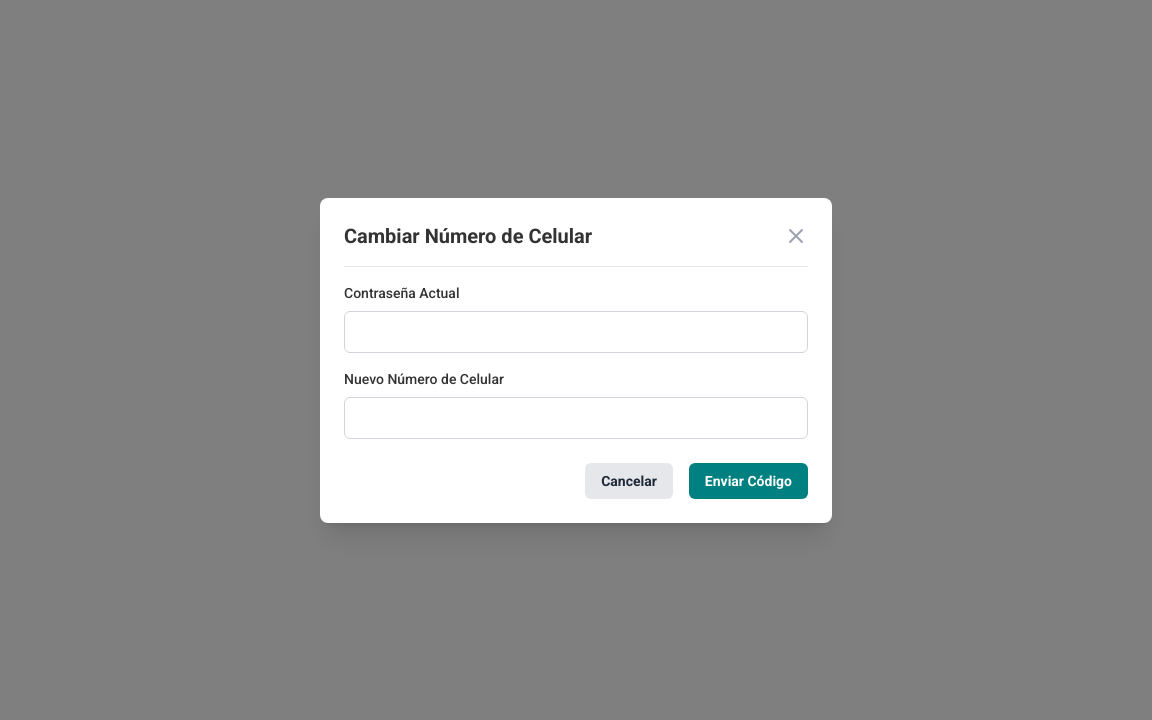
Scenario: ChangeCelularModal › debería mostrar un error si la confirmación falla
Type "password123" into the password field labelled "Contraseña Actual" at point(576, 332), box [344, 310, 808, 352]
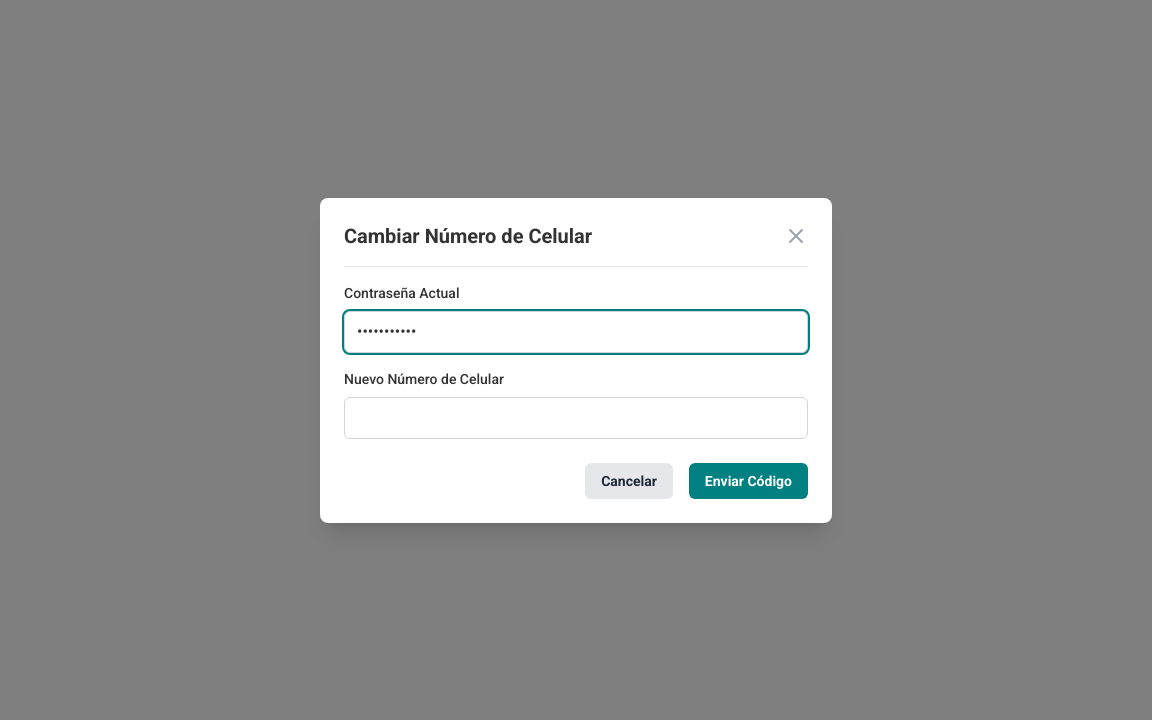
Type "3009876543" into the field labelled "Nuevo Número de Celular" at point(576, 418), box [344, 396, 808, 438]
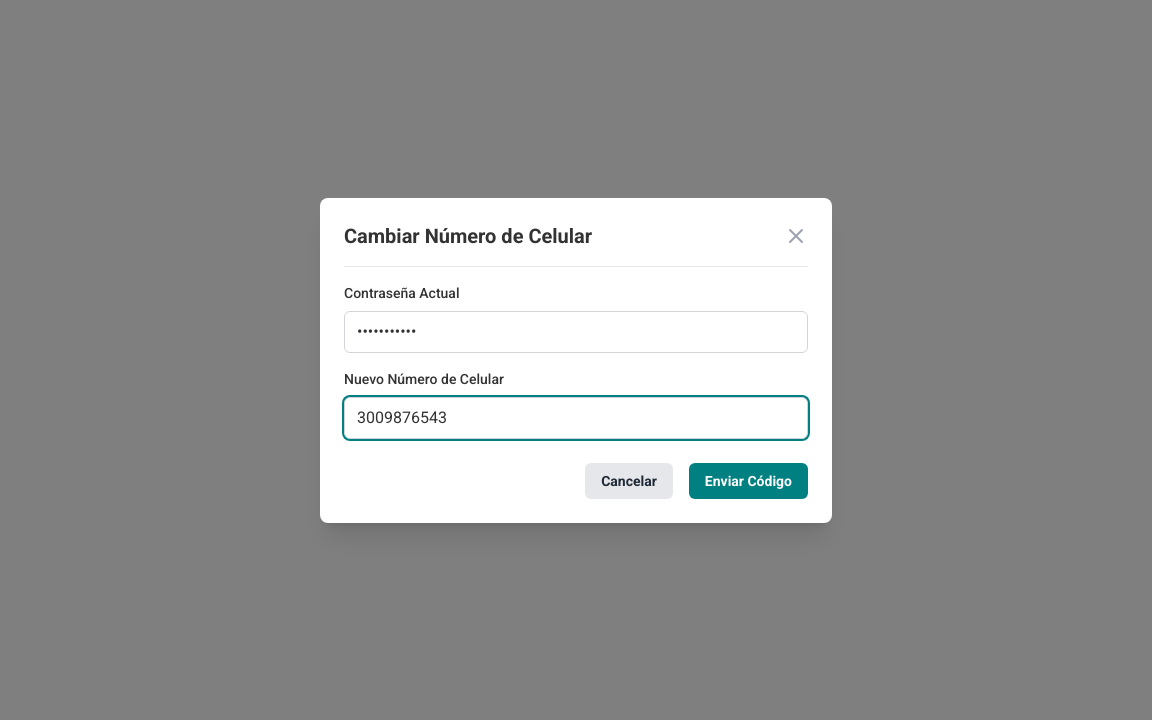
Click the button "Enviar Código" at point(748, 480), box [689, 462, 808, 498]
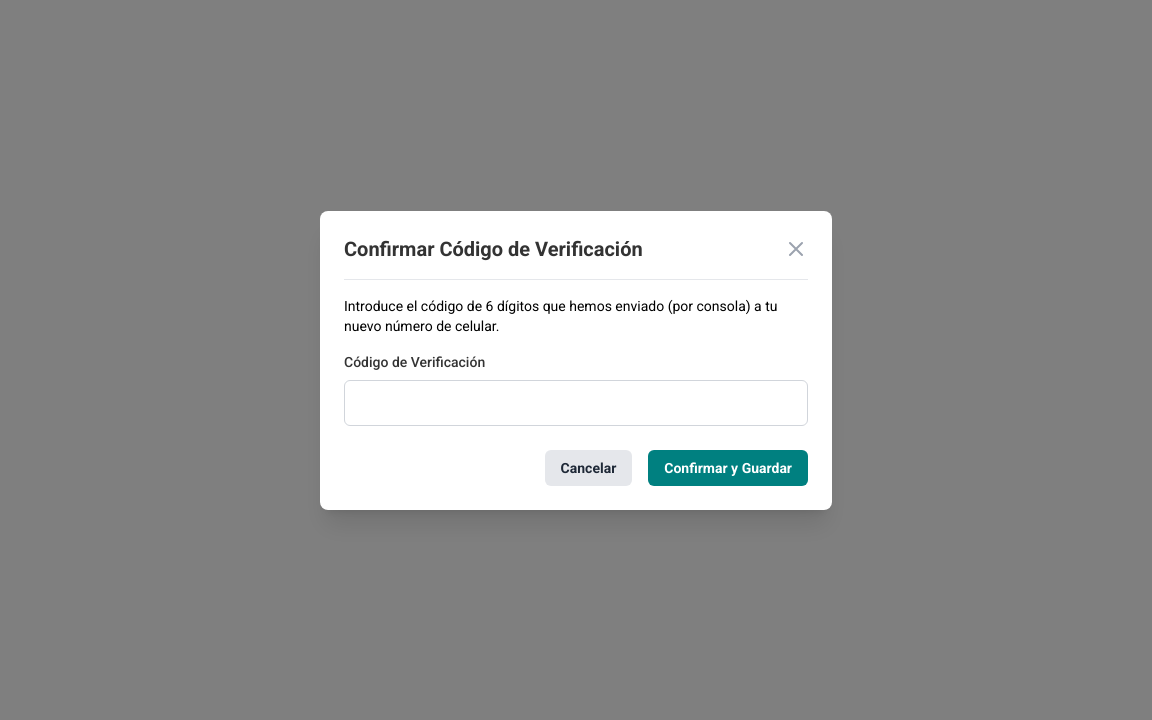
Check: the heading "Confirmar Código de Verificación" is shown, box [344, 234, 643, 262]
# Simulamos la entrada del código y el envío del formulario.
Type "654321" into the field labelled "Código de Verificación" at point(576, 402), box [344, 380, 808, 426]
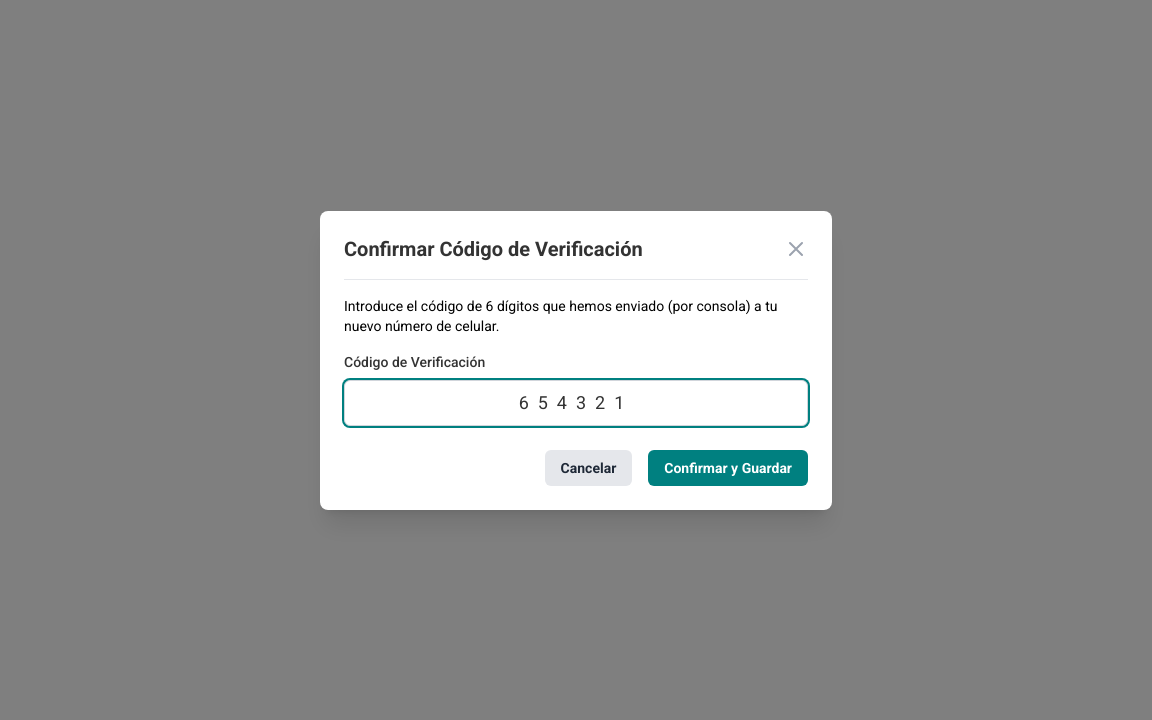
Click the button "Confirmar y Guardar" at point(728, 468), box [648, 450, 808, 486]
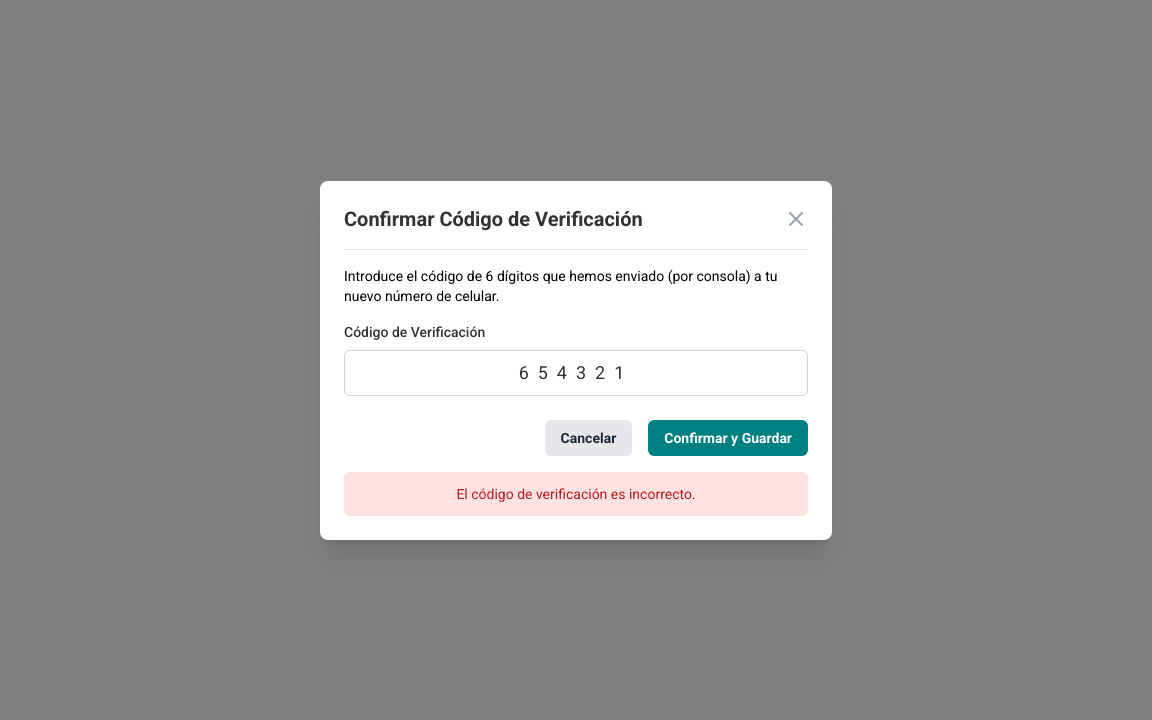
Check: the heading "Confirmar Código de Verificación" is shown, box [344, 204, 643, 232]
Check: the text "El código de verificación es incorrecto." is shown, box [344, 472, 808, 516]
